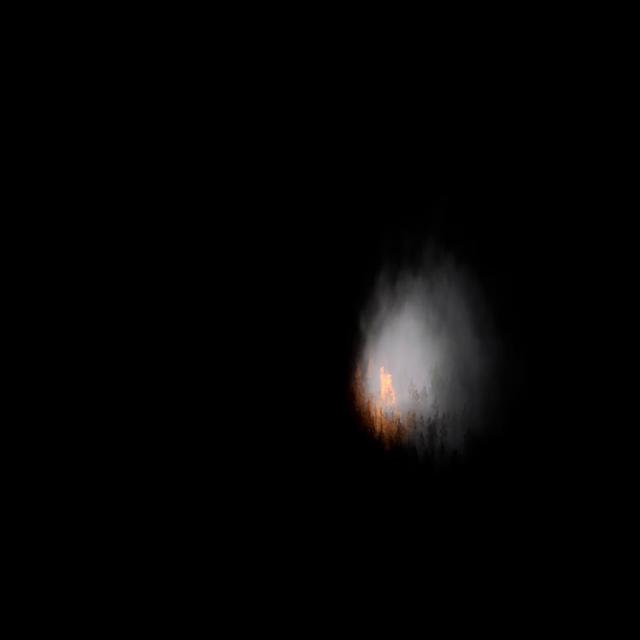fire: (380, 364, 396, 408)
smoke: (353, 250, 497, 442)
